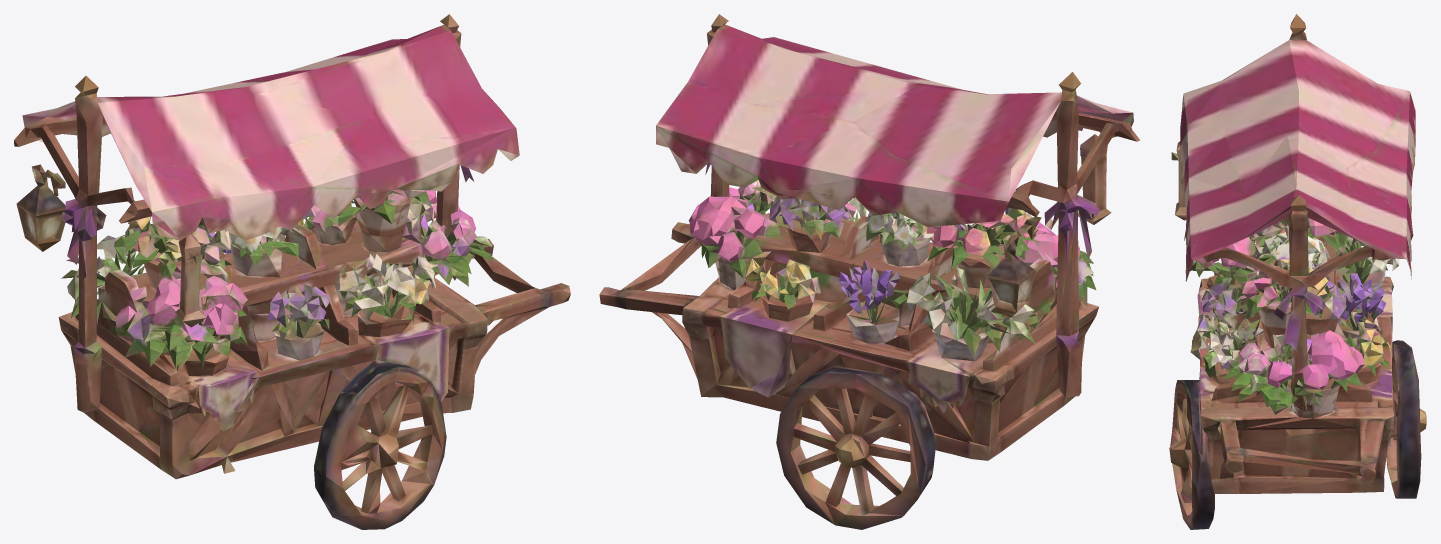
The model's file is town_flowercart.glb.
The picture shows the model from 3 angles, left to right: view 1: azimuth 30°, elevation 25°; view 2: azimuth 150°, elevation 25°; view 3: azimuth 270°, elevation 25°; orthographic projection. The views are drawn at different scales.
Visible parts, largest first — view 1: output_unwrapped; view 2: output_unwrapped; view 3: output_unwrapped.
Part boxes in pixels (x1,y1,x2,y2): output_unwrapped: [14, 14, 570, 529]; output_unwrapped: [599, 14, 1140, 529]; output_unwrapped: [1169, 14, 1426, 529].
Size of the model in its own units: 1.81 by 1.73 by 0.9902.
Materials: 1 (1 with a texture image).
